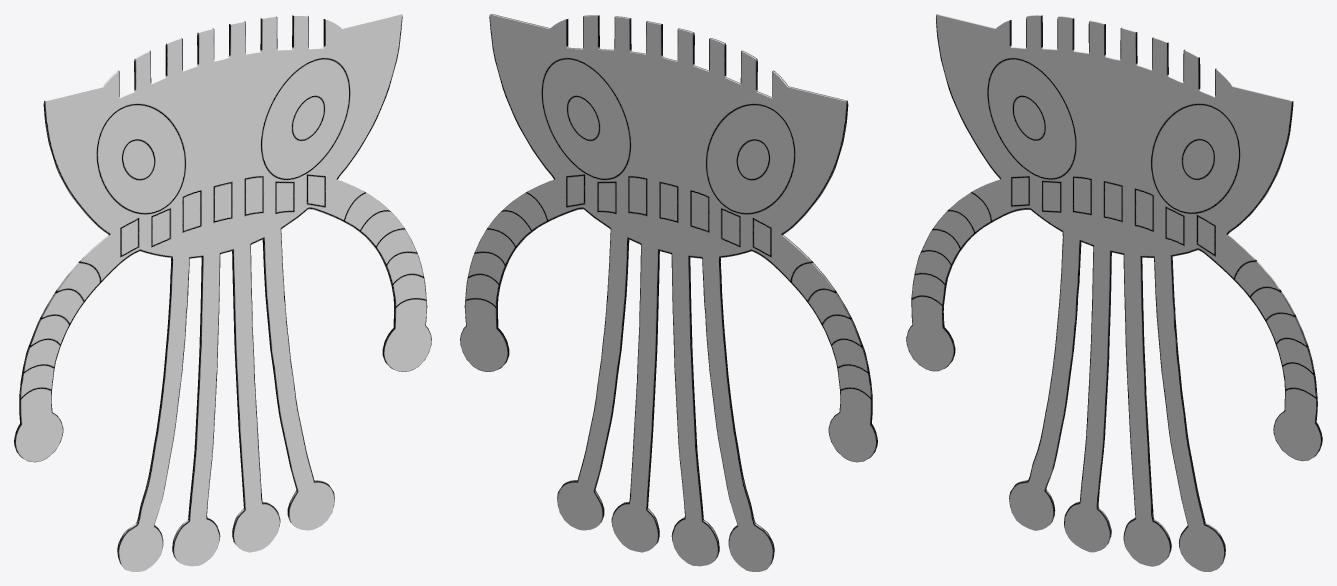
The model's file is 4_nazzo.fbx.
3 views of the same model, side by side, from view 1: azimuth 30°, elevation 25°; view 2: azimuth 150°, elevation 25°; view 3: azimuth 330°, elevation 25° (orthographic).
Visible parts, largest first — view 1: wedsd; view 2: wedsd; view 3: wedsd.
Part boxes in pixels (left/top/right/bottom): wedsd: left=14, top=14, right=431, bottom=571; wedsd: left=460, top=14, right=877, bottom=571; wedsd: left=906, top=14, right=1322, bottom=571.
Bounding box in the file's own units: 23.56 × 28.81 × 0.1223.
1 material, 1 textured.
